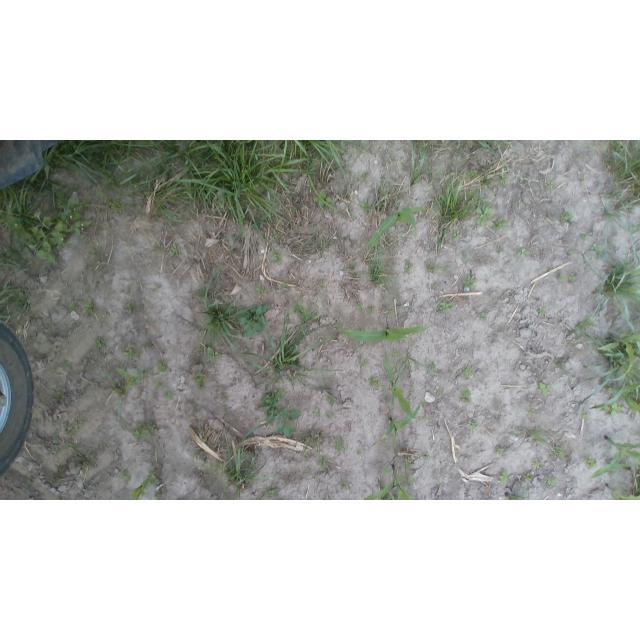Maize: (380, 349, 424, 423), (333, 314, 436, 344), (366, 201, 427, 251), (589, 430, 640, 478), (372, 404, 423, 449), (364, 469, 418, 500), (127, 468, 161, 500), (605, 484, 640, 501)
Weeds: (36, 141, 346, 224), (171, 197, 346, 295), (1, 168, 90, 261), (569, 306, 640, 419), (249, 292, 323, 393), (206, 421, 270, 500), (433, 163, 489, 253), (198, 277, 266, 348), (1, 245, 34, 333), (592, 255, 640, 314), (604, 141, 640, 216), (601, 207, 640, 268), (258, 388, 299, 436), (101, 366, 136, 419), (363, 253, 400, 297), (361, 178, 406, 214), (433, 141, 512, 160), (192, 422, 228, 463), (520, 427, 566, 458), (405, 142, 434, 188), (290, 430, 330, 456), (51, 437, 90, 460), (472, 204, 501, 229), (58, 419, 91, 440), (550, 355, 574, 382), (395, 355, 422, 377), (133, 423, 159, 444), (158, 239, 184, 259), (421, 261, 456, 275), (434, 300, 458, 320), (399, 449, 419, 470), (190, 374, 210, 395), (589, 243, 611, 261), (331, 434, 349, 456), (521, 473, 536, 499), (314, 455, 333, 474), (201, 344, 220, 363), (79, 298, 97, 318), (261, 485, 284, 500), (124, 302, 145, 318), (397, 259, 416, 276), (543, 178, 563, 194), (630, 464, 640, 495), (558, 211, 577, 226), (459, 387, 474, 406), (461, 272, 476, 290), (125, 349, 144, 363), (100, 482, 116, 498), (339, 478, 356, 493), (583, 454, 598, 470), (117, 469, 133, 484), (495, 170, 510, 185), (537, 383, 552, 398), (29, 333, 45, 347), (462, 365, 475, 382), (495, 218, 509, 233), (517, 246, 532, 260), (536, 303, 550, 318), (62, 359, 77, 373), (498, 470, 511, 486), (467, 418, 480, 434), (137, 366, 153, 379), (93, 337, 109, 350), (161, 387, 175, 401), (269, 252, 284, 265), (54, 391, 70, 403), (435, 472, 448, 486), (368, 377, 382, 390), (496, 446, 512, 457), (268, 231, 284, 242), (424, 362, 438, 374), (50, 474, 62, 488), (421, 452, 436, 463), (505, 493, 528, 500), (324, 410, 337, 422), (528, 407, 543, 417), (517, 204, 532, 214), (478, 310, 489, 323), (426, 279, 439, 290), (358, 357, 371, 368), (154, 379, 167, 390), (79, 458, 93, 468), (545, 477, 557, 488), (459, 250, 470, 262), (437, 386, 448, 398), (157, 360, 168, 372), (67, 299, 77, 312), (354, 451, 368, 460), (50, 322, 61, 333), (325, 395, 337, 405), (312, 407, 322, 419), (390, 347, 401, 357), (567, 273, 577, 283), (387, 308, 397, 318), (531, 459, 541, 468), (554, 272, 564, 281), (568, 251, 578, 260), (355, 303, 364, 312), (580, 233, 589, 241), (366, 306, 374, 315), (496, 246, 504, 254), (546, 266, 555, 272)
